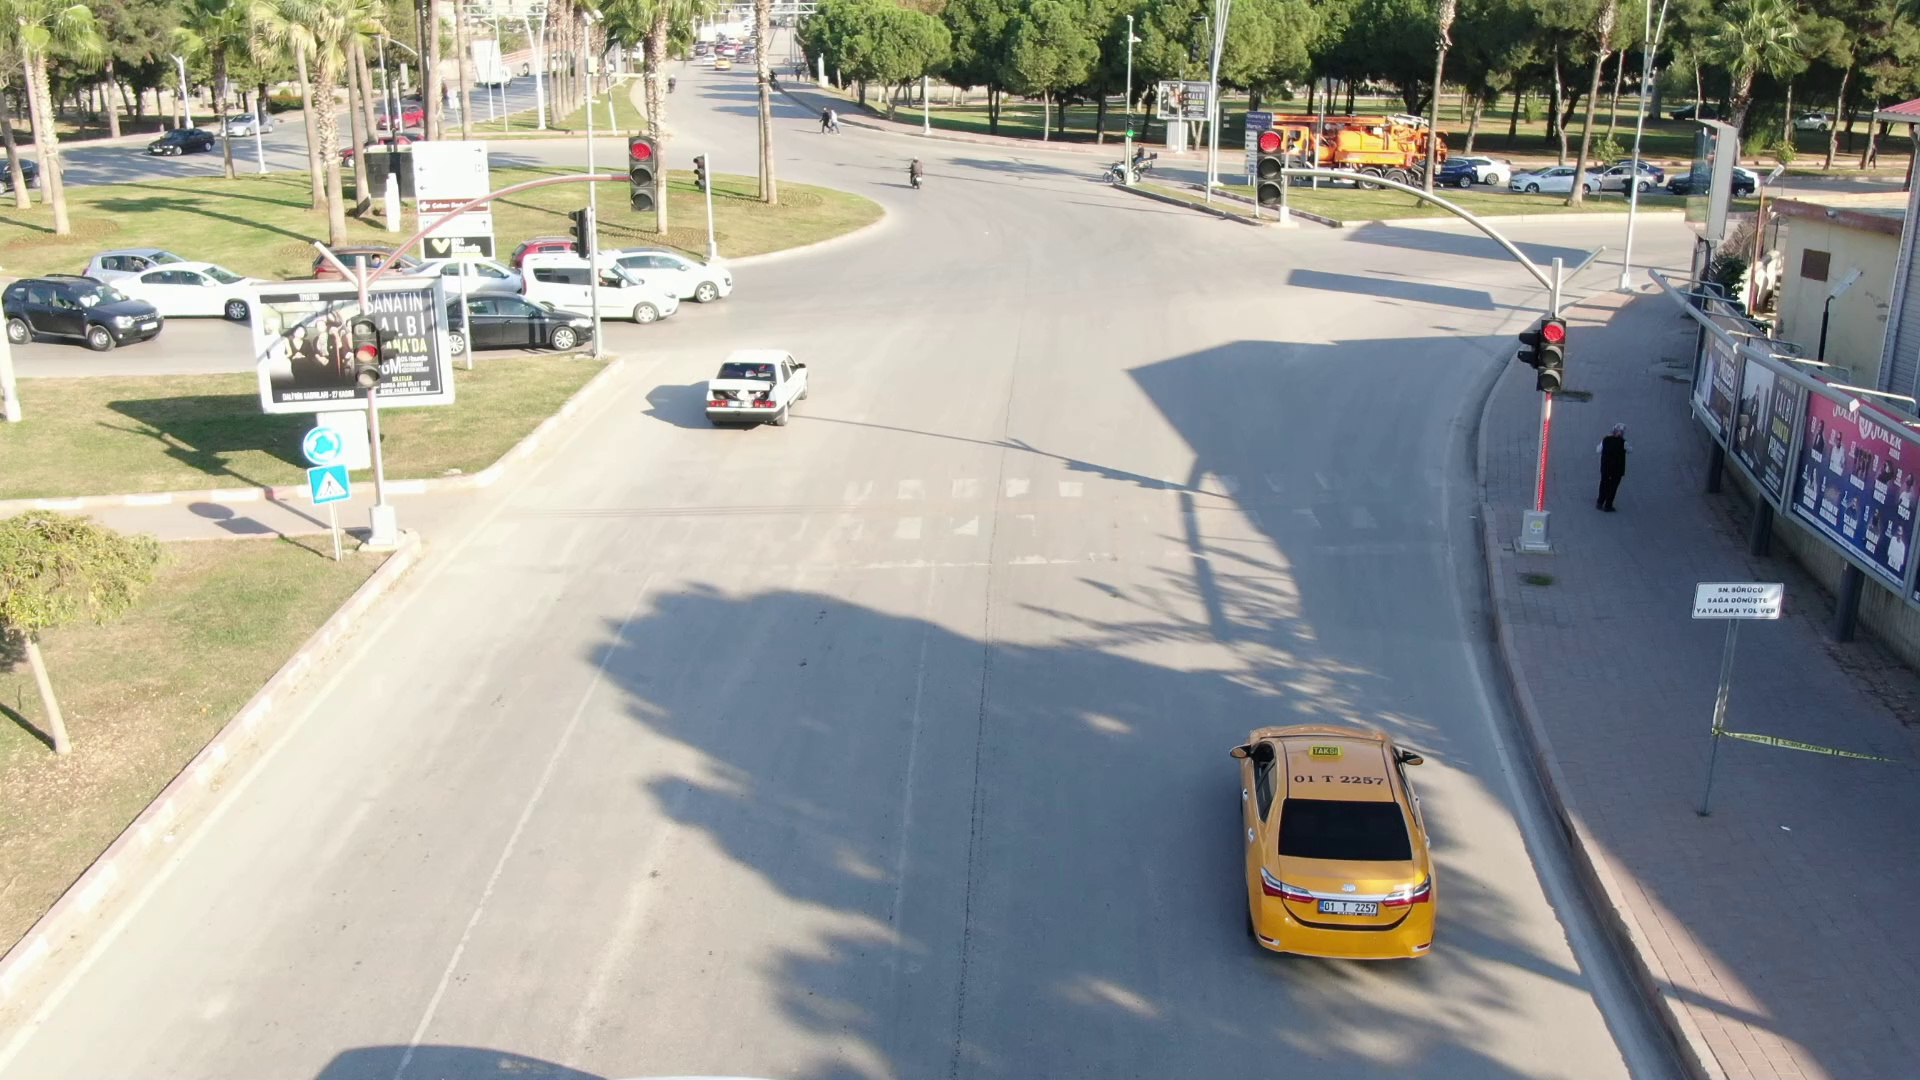car: (1219, 708, 1470, 965), (1, 261, 166, 351), (680, 341, 817, 445), (508, 243, 686, 321), (435, 288, 594, 347), (615, 235, 735, 298)
person: (1592, 415, 1643, 527), (894, 151, 935, 196)
